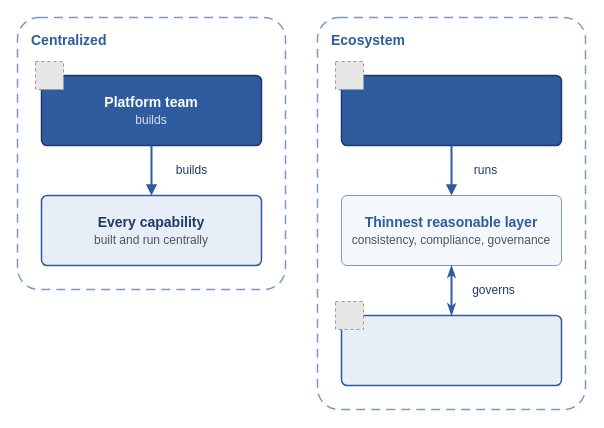
Some shapes in this 604 by 428 pixel diagram are drawn without their labels. Grey dashed boxes stand in for pictures. Each missing label, with the box of its shape:
Capabilities built and run by domain experts: (340, 314, 562, 386)
Platform team guarantees: (340, 74, 562, 146)
